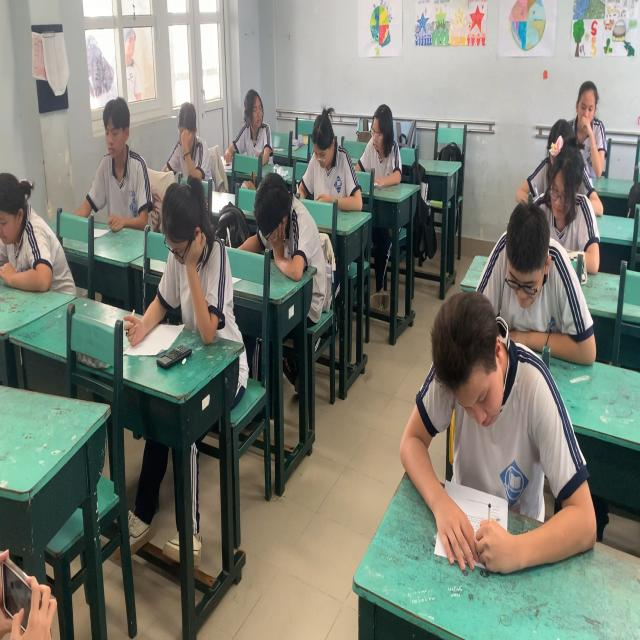cheating: (361, 94, 423, 203), (231, 70, 286, 170)
not_cheating: (384, 216, 589, 520), (160, 85, 244, 332), (472, 147, 592, 309), (1, 101, 86, 283), (242, 97, 327, 263), (502, 52, 587, 216), (82, 86, 164, 245), (550, 41, 627, 186), (301, 87, 367, 243), (162, 82, 211, 178)
